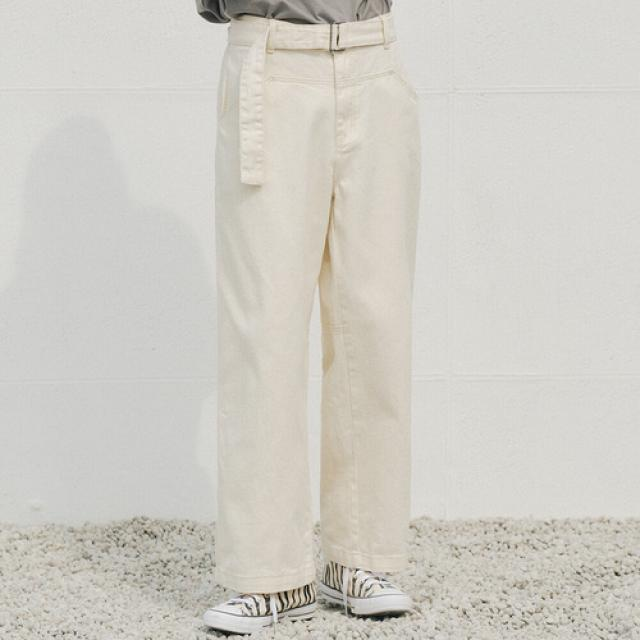Blouse_deep: (210, 23, 422, 580)
